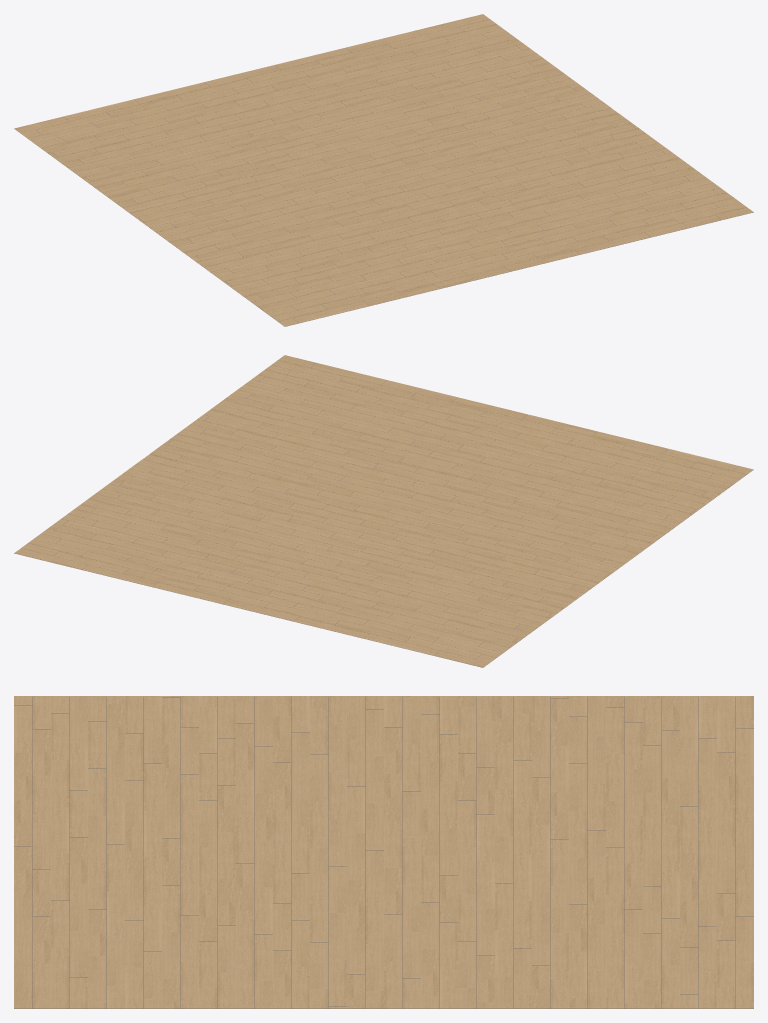
Rendered from wood-honey-20x120.glb.
3 views of the same model, one above another, from view 1: azimuth 30°, elevation 25°; view 2: azimuth 150°, elevation 25°; view 3: azimuth 270°, elevation 25° (orthographic). The views are drawn at different scales.
Parts seen in each view (by area): view 1: Wood Honey; view 2: Wood Honey; view 3: Wood Honey.
Part boxes in pixels (x1,y1,x2,y2): Wood Honey: (14,14,753,326); Wood Honey: (14,355,753,667); Wood Honey: (14,696,753,1008).
Size of the model in its own units: 8 by 0.003 by 8.
Materials: 2 (1 with a texture image).
